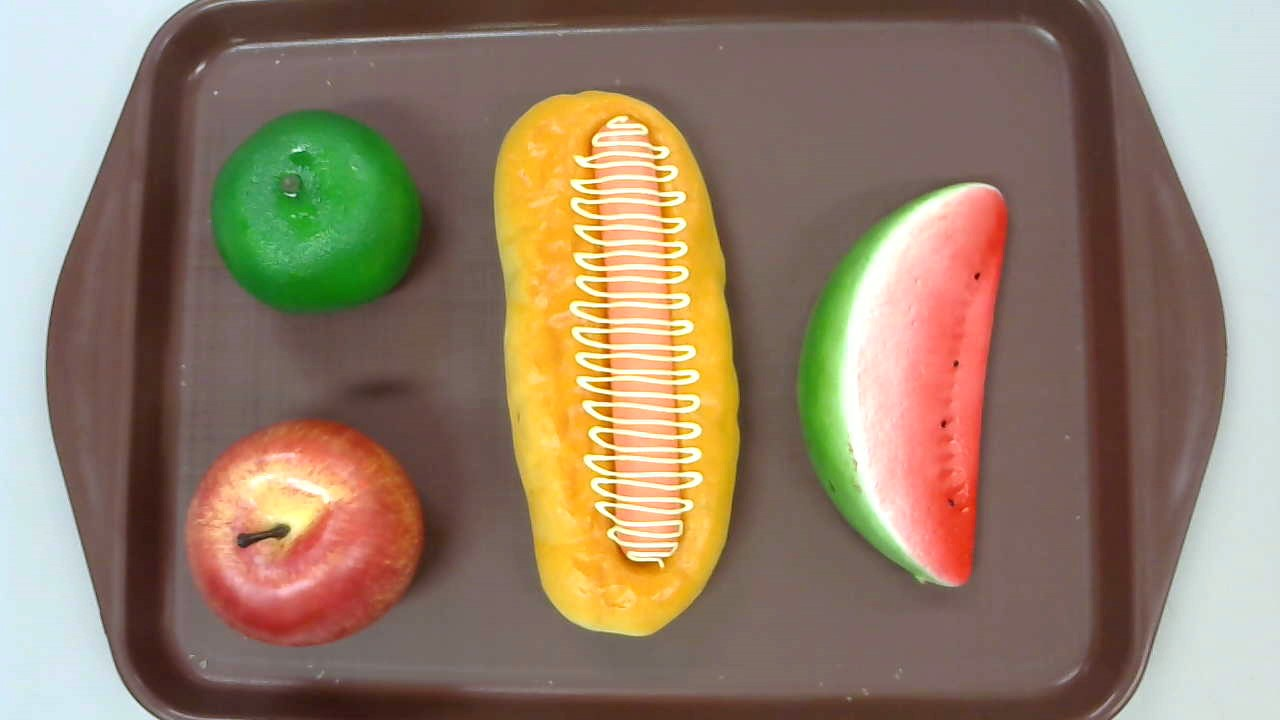green orange: (210, 109, 422, 317)
hot dog: (494, 91, 741, 636)
red apple: (184, 416, 422, 648)
water melon: (795, 182, 1008, 589)
